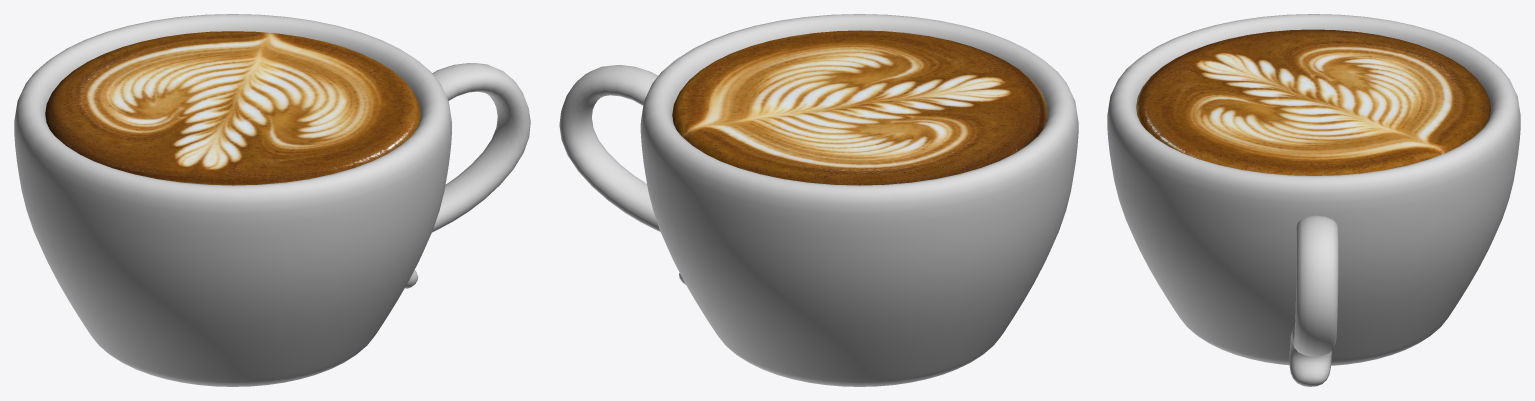
File: latte (3).glb
3 renders of one model, left to right at view 1: azimuth 30°, elevation 25°; view 2: azimuth 150°, elevation 25°; view 3: azimuth 270°, elevation 25°, orthographic. The views are drawn at different scales.
Parts seen in each view (by area): view 1: Circle, Circle.002, Circle.001; view 2: Circle, Circle.002, Circle.001; view 3: Circle, Circle.002, Circle.001.
Boxes of the visible parts, x1,y1,x2,y2 form: Circle: (14, 14, 451, 386); Circle.002: (45, 31, 420, 185); Circle.001: (405, 63, 530, 288); Circle: (640, 14, 1078, 386); Circle.002: (672, 30, 1047, 185); Circle.001: (559, 65, 685, 284); Circle: (1107, 14, 1520, 365); Circle.002: (1136, 29, 1490, 175); Circle.001: (1289, 215, 1338, 386).
Bounding box in the file's own units: 3.83 × 1.77 × 3.
Materials: 2 (1 with a texture image).
